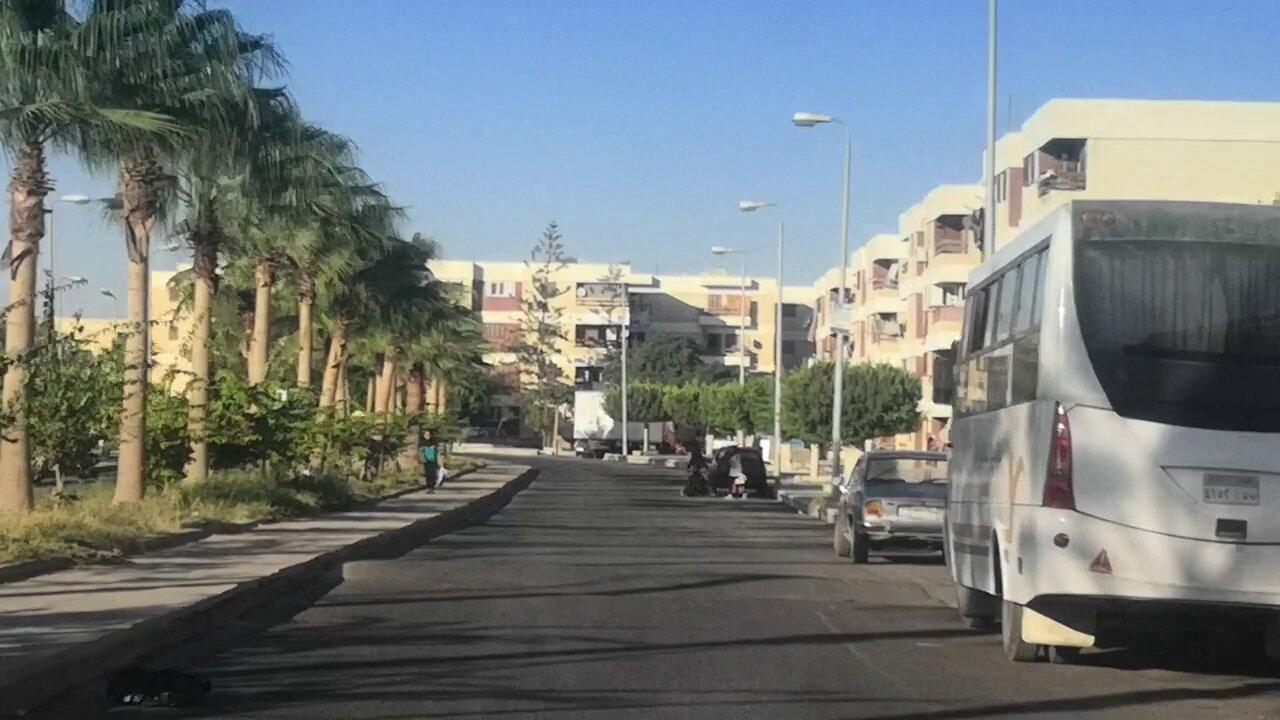Bump: (330, 550, 930, 607)
